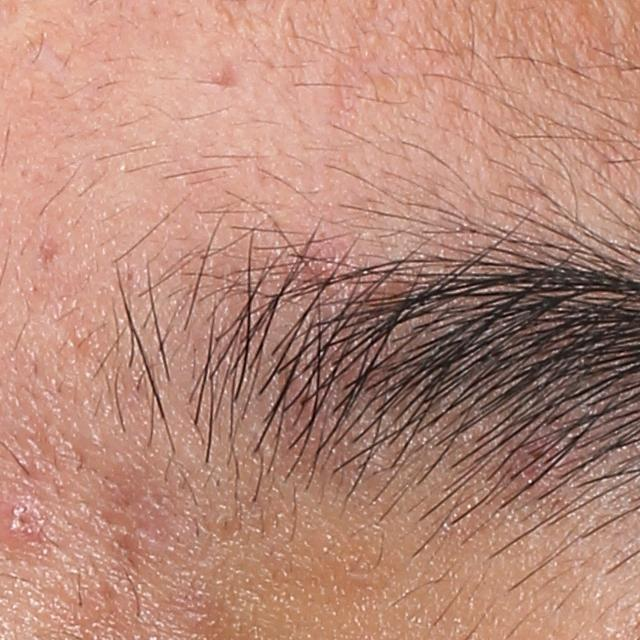atrophic_scar: (40, 232, 60, 265)
papule: (1, 497, 51, 544)
